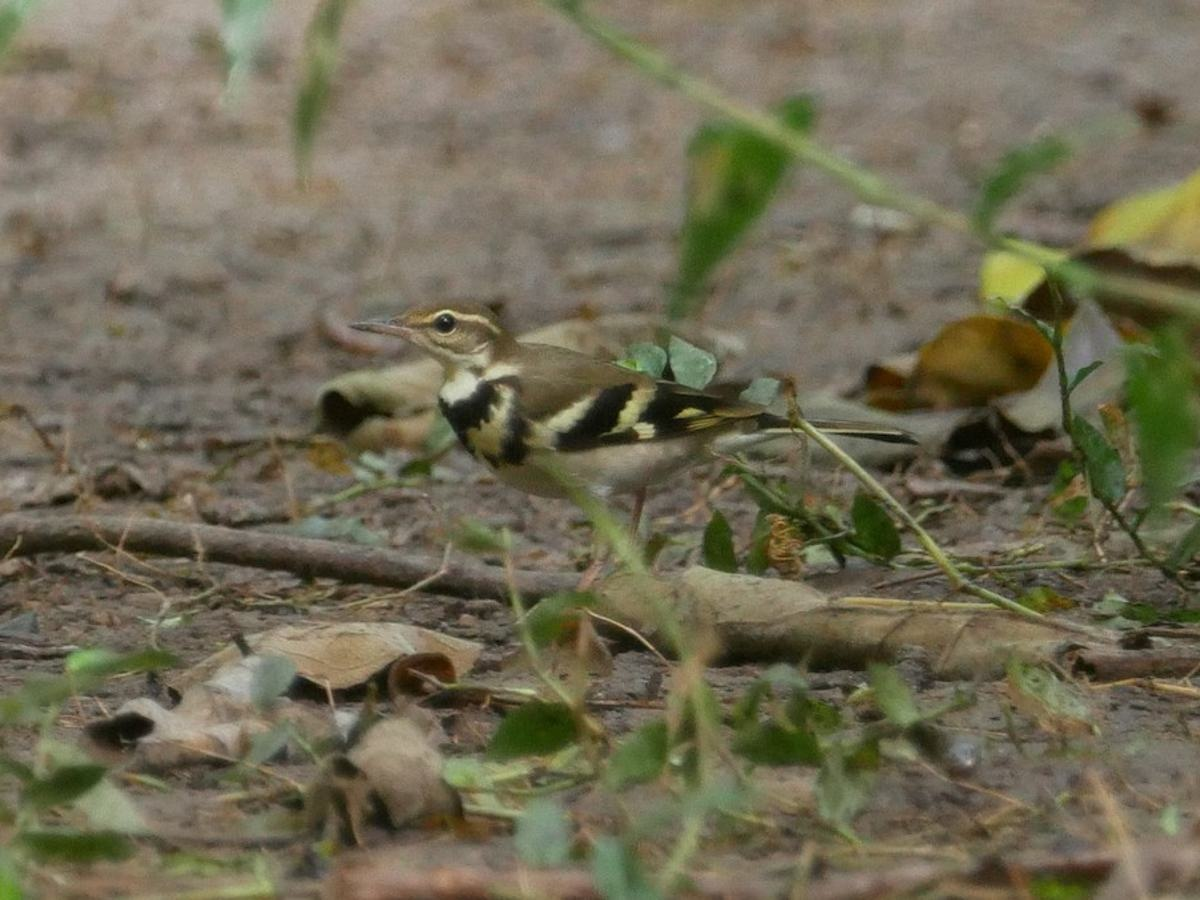wagtail: (371, 291, 863, 548)
